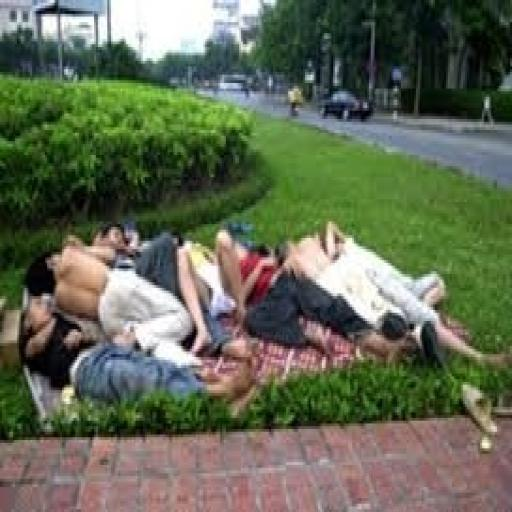sleeping: (17, 213, 508, 412)
